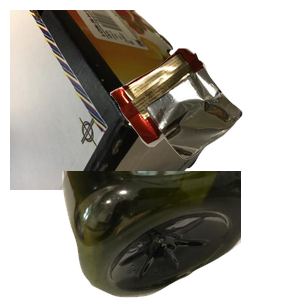cardboard: (10, 10, 238, 190)
glass: (67, 172, 229, 300)
plastic: (60, 171, 300, 300)
trash: (107, 46, 300, 198)
